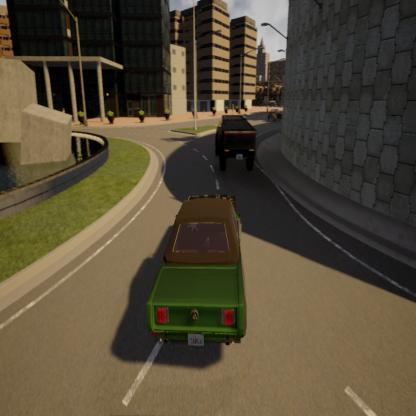Cars: (146, 197, 249, 349), (215, 112, 258, 171), (268, 106, 281, 124)
